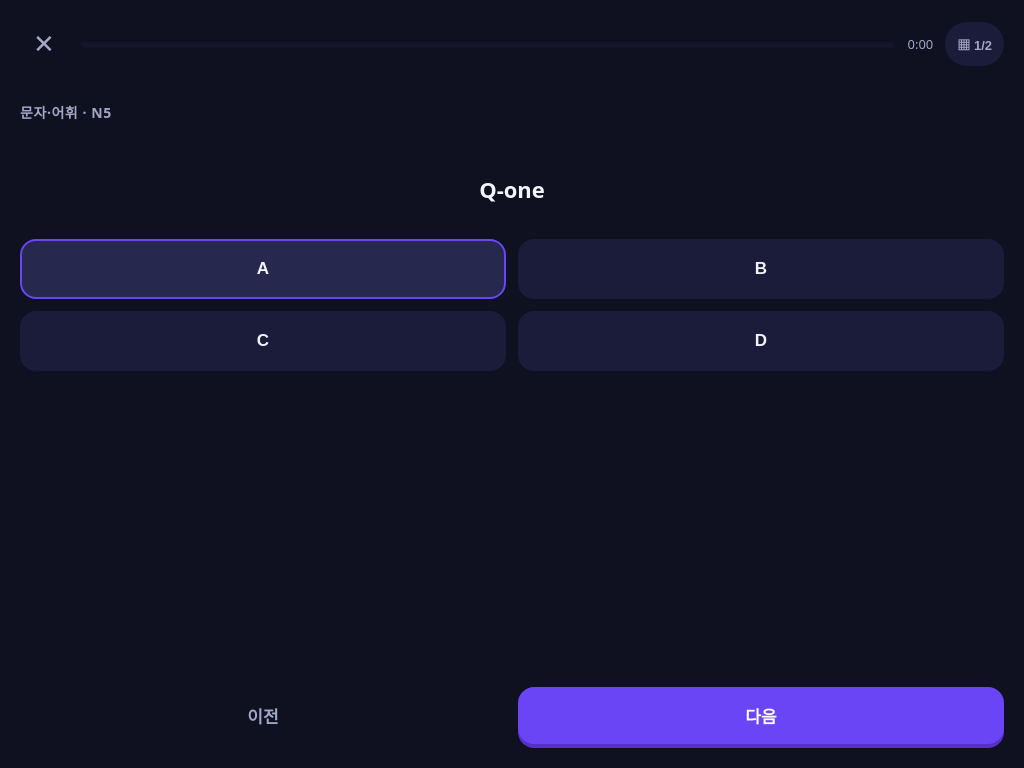
Test: JlptExam flow › jumps to the first unanswered item from the submit warning
Step 1. Click the button "다음" → [761, 716], box [518,687,1004,744]
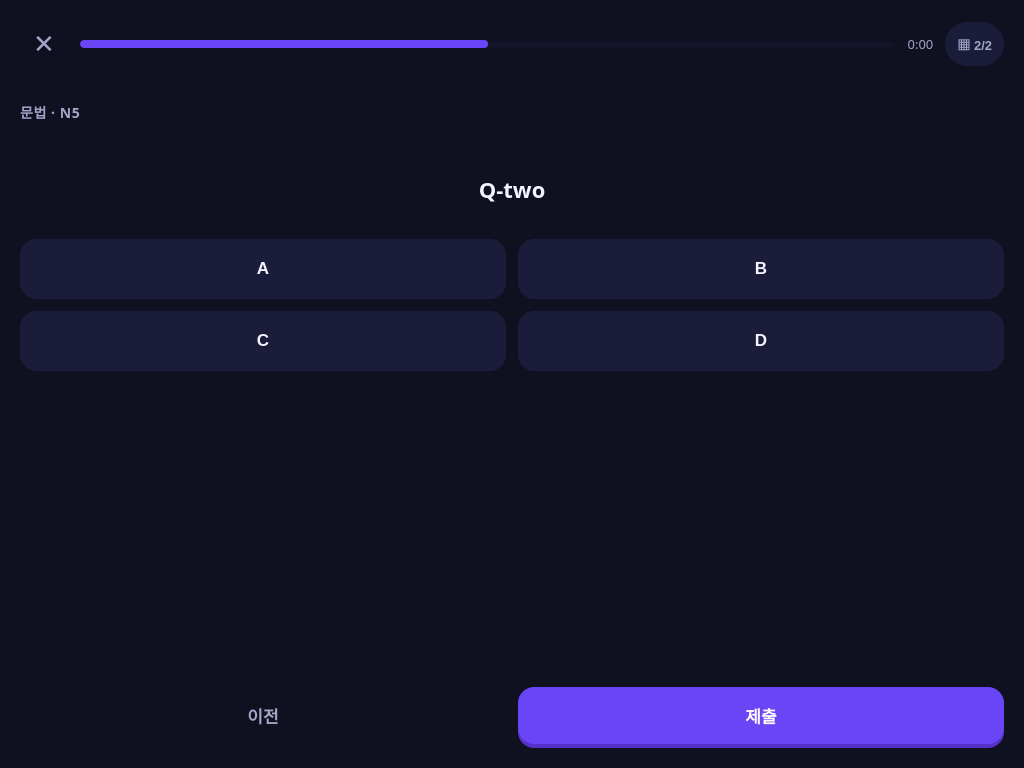
Step 2. Click the button "이전" → [263, 716], box [20,687,506,744]
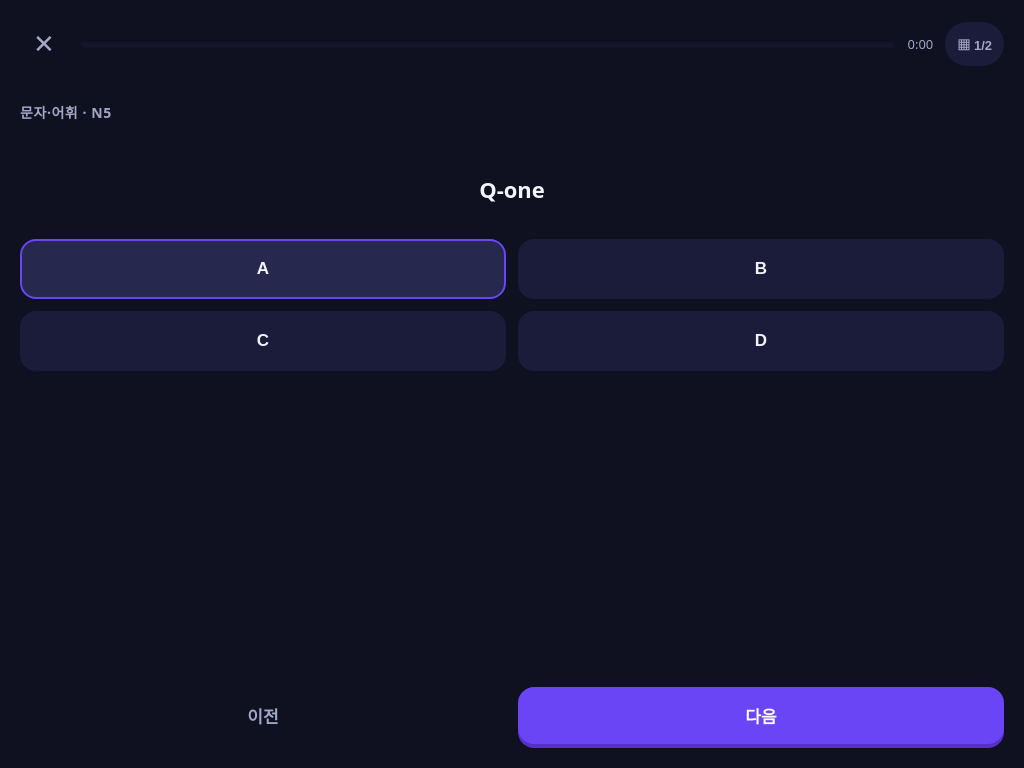
Check: the text "Q-one" is shown, box [479,172,545,207]
Step 3. Click the button "다음" → [761, 716], box [518,687,1004,744]
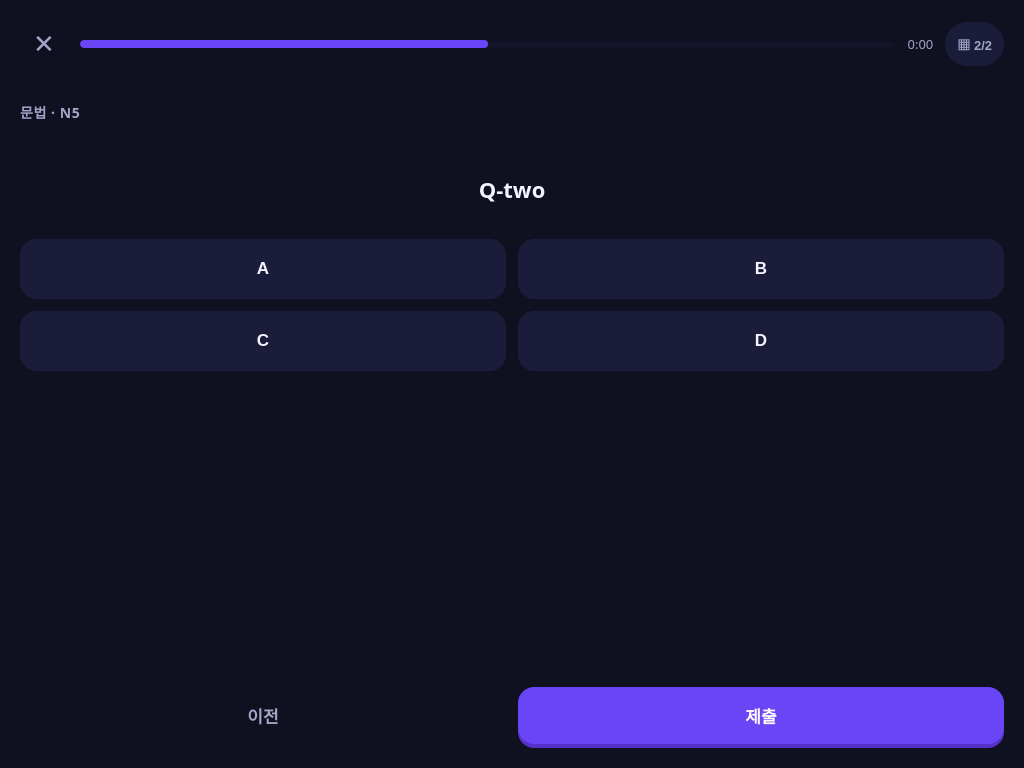
Step 4. Click the button "제출" → [761, 716], box [518,687,1004,744]
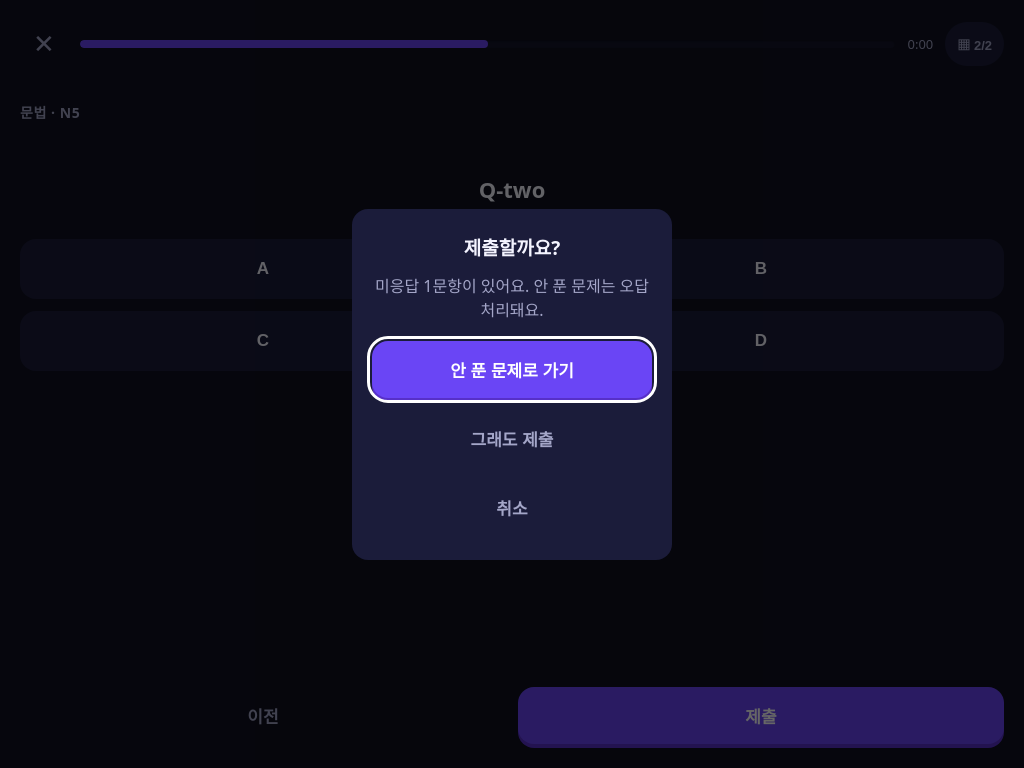
Step 5. Click the button "안 푼 문제로 가기" → [512, 369], box [372,340,652,398]
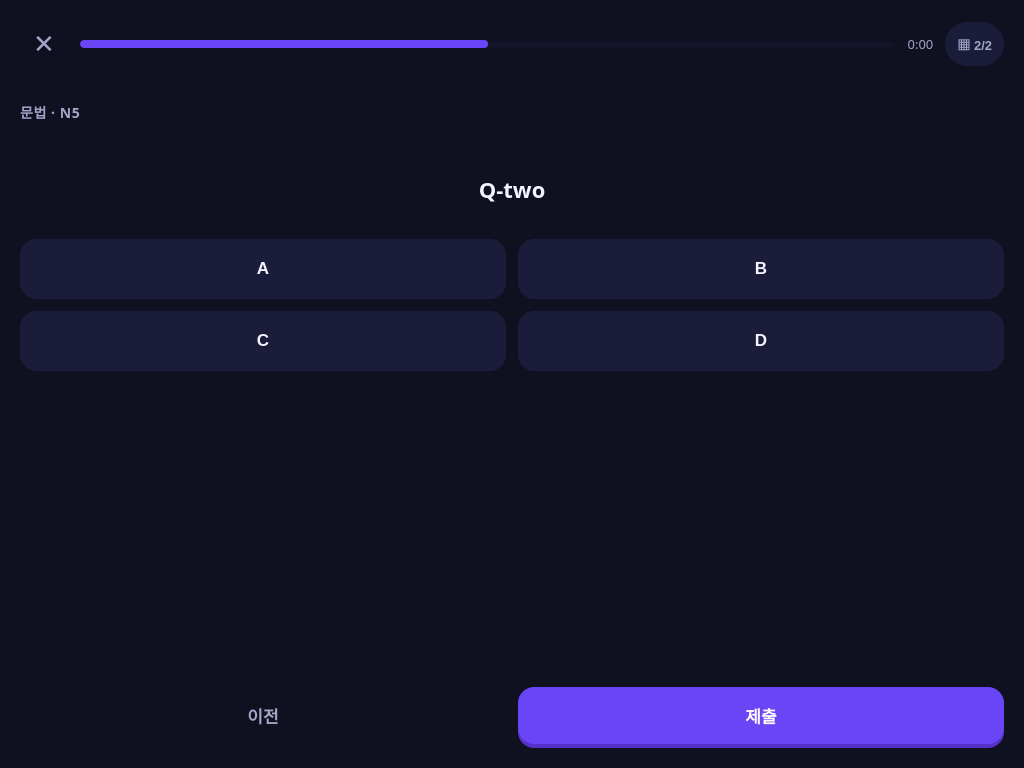
Check: the text "Q-two" is shown, box [479,172,545,207]
Check: the text "미응답" is gone
